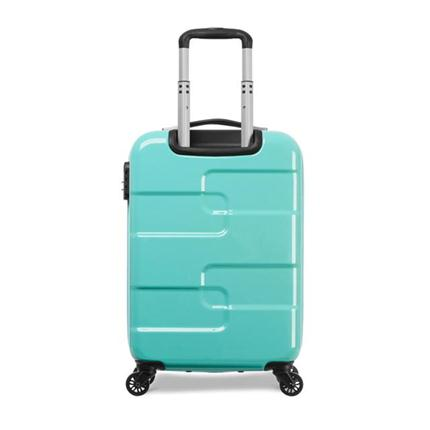luggage: (121, 27, 306, 396)
